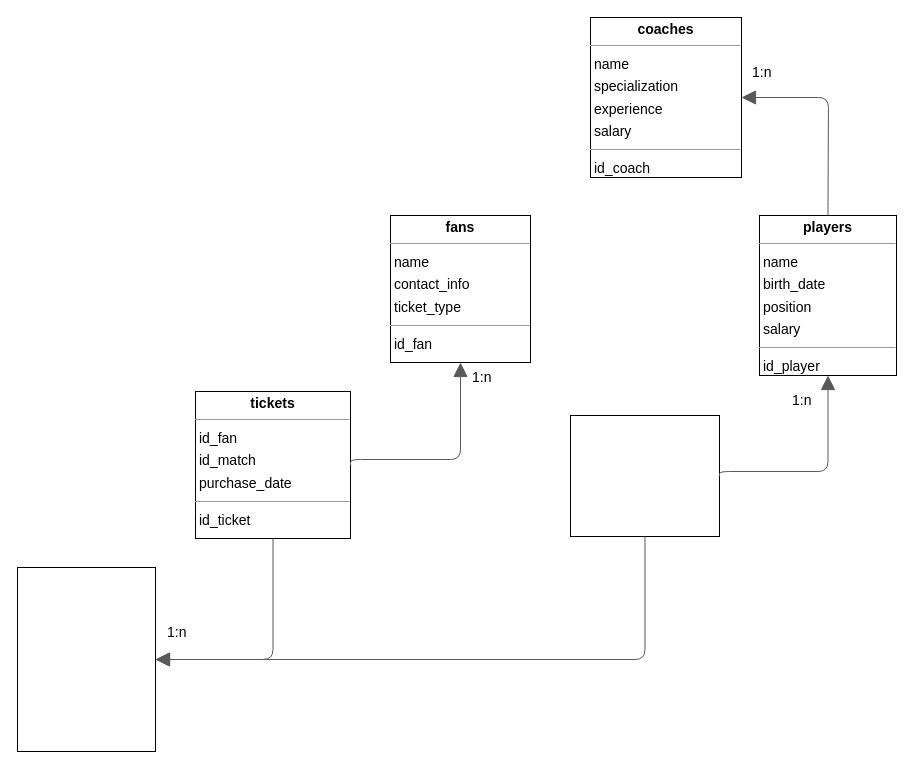
The diagram is 914 pixels wide and 769 high, and some of its shapes have lost their labels. The shapes that lost their labels are listed below. From the top down, each one's centre as x and y in pixels, then its label:
At pixel 645 475: "match_squads id_match id_player id_squad".
At pixel 86 659: "matches date time location opponent score id_match".
